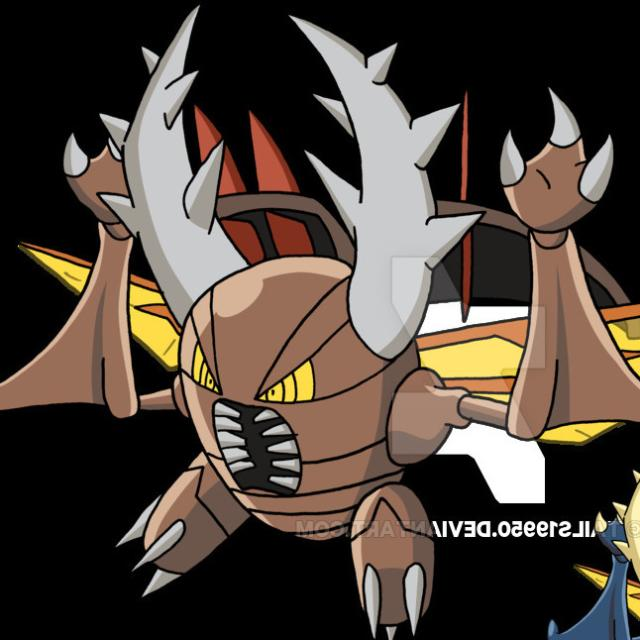Pinsir: (106, 15, 473, 632)
